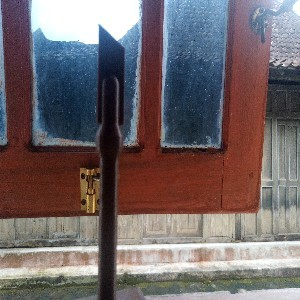cutter: (93, 24, 126, 300)
